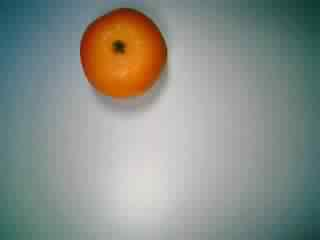orange: (75, 7, 170, 99)
